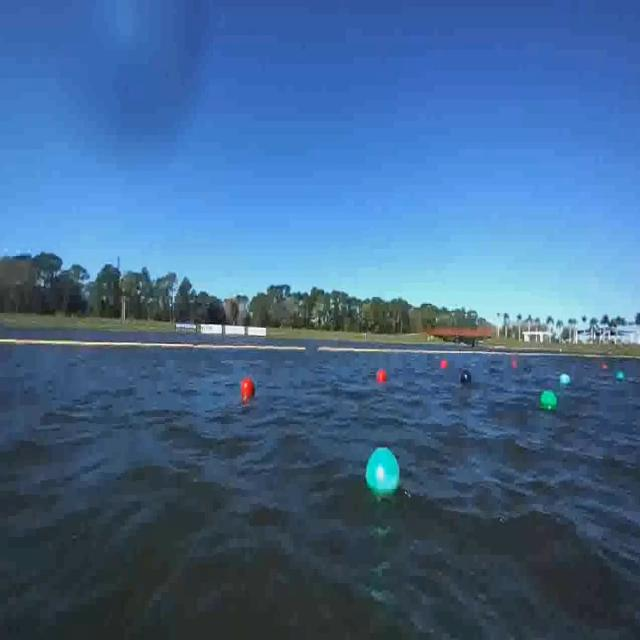black-buoy: (460, 372, 471, 386)
green-buoy: (366, 449, 400, 498), (542, 392, 558, 413), (561, 372, 571, 384)
red-buoy: (240, 376, 253, 396), (378, 370, 388, 385), (442, 359, 449, 368)
